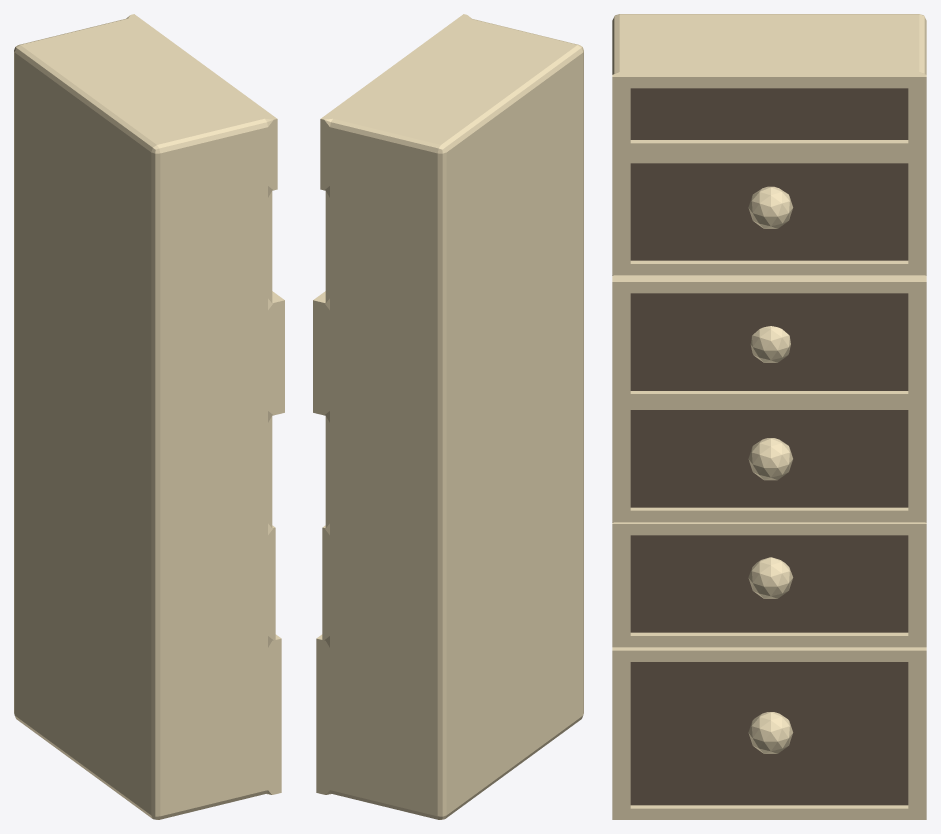
Rendered from Almirah1.fbx.
The picture shows the model from 3 angles, left to right: view 1: azimuth 30°, elevation 25°; view 2: azimuth 150°, elevation 25°; view 3: azimuth 270°, elevation 25°; orthographic projection. The views are drawn at different scales.
Parts seen in each view (by area): view 1: Almirah.001; view 2: Almirah.001; view 3: Almirah.001.
Part boxes in pixels (<box>): Almirah.001: <box>14,14,284,819</box>; Almirah.001: <box>313,14,583,819</box>; Almirah.001: <box>612,14,926,819</box>.
Bounding box in the file's own units: 47.73 × 218 × 83.94.
